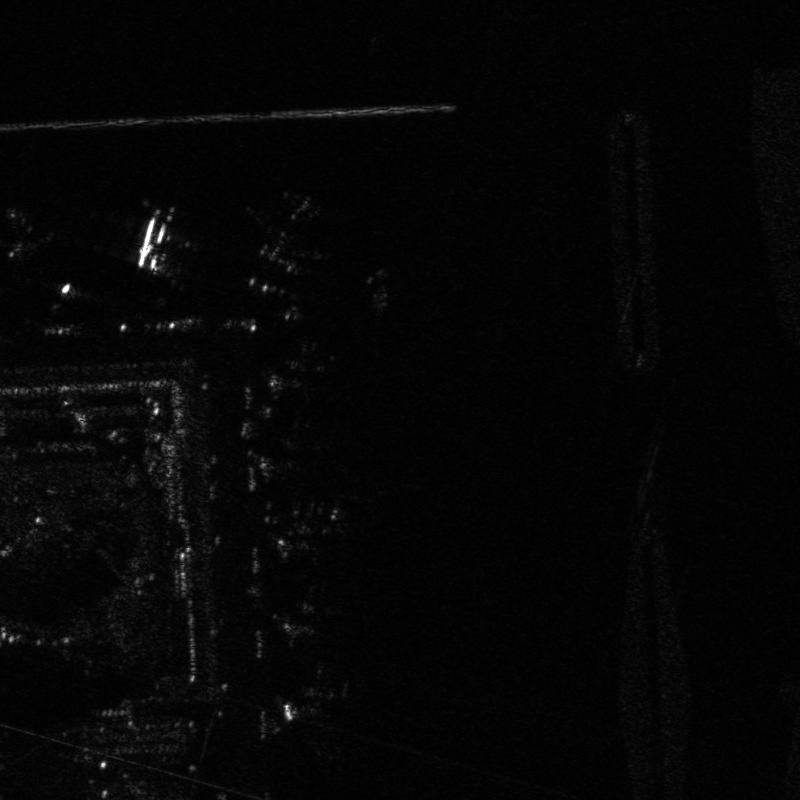A320/321: (245, 188, 344, 289)
Boeing787: (119, 204, 201, 281), (1, 204, 54, 282)
